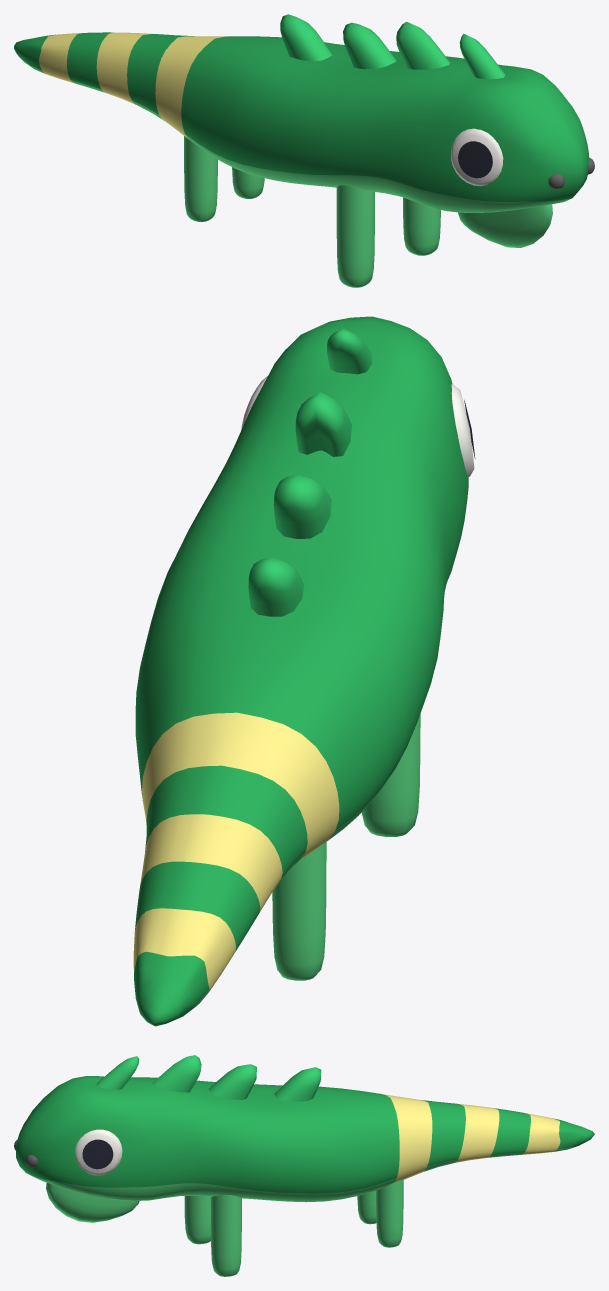
Rendered from Iguana.glb.
3 renders of one model, top to bottom at view 1: azimuth 30°, elevation 25°; view 2: azimuth 150°, elevation 25°; view 3: azimuth 270°, elevation 25°, orthographic. The views are drawn at different scales.
Visible parts, largest first — view 1: Iguana; view 2: Iguana; view 3: Iguana.
Part boxes in pixels (x1,y1,x2,y2): Iguana: (14, 14, 594, 287); Iguana: (133, 316, 475, 1026); Iguana: (14, 1055, 594, 1276).
Size of the model in its own units: 1.41 by 1.42 by 3.5.
1 material, 1 textured.
